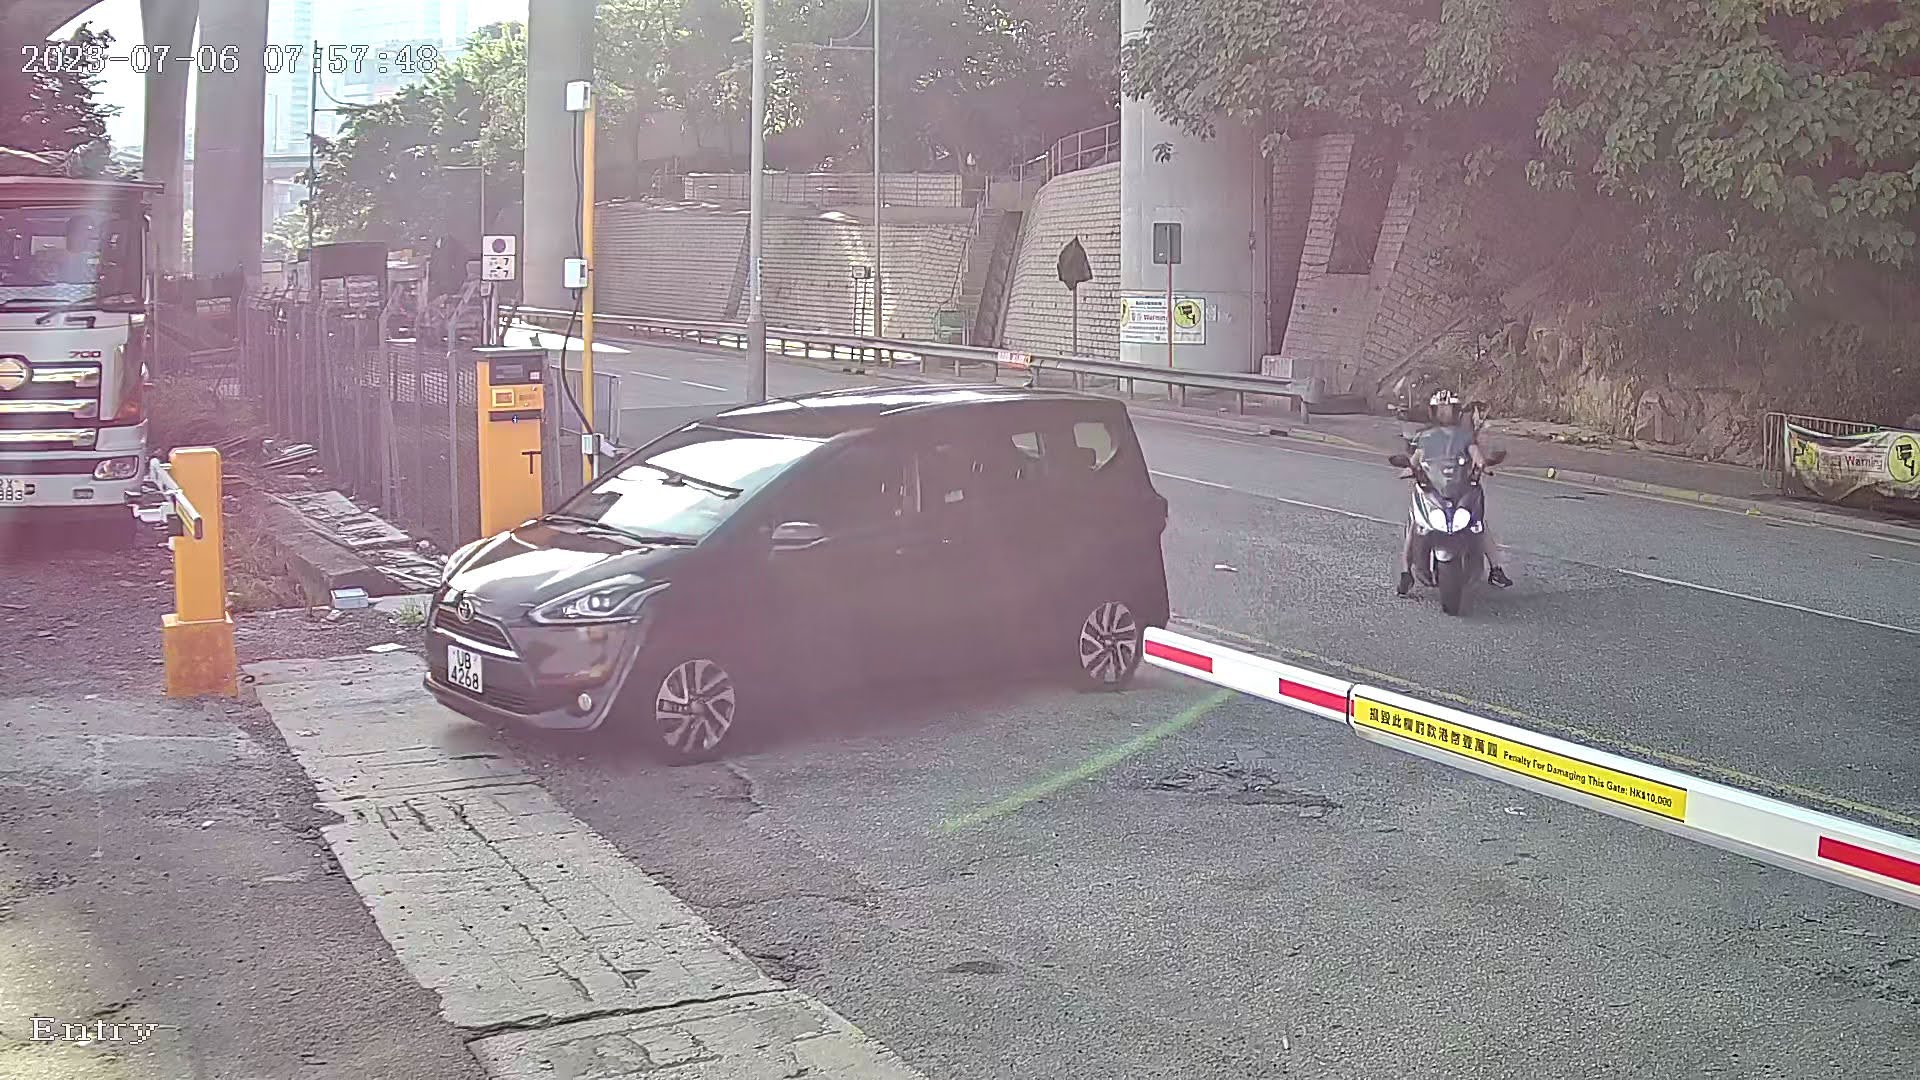privatecar: (396, 357, 1207, 793)
